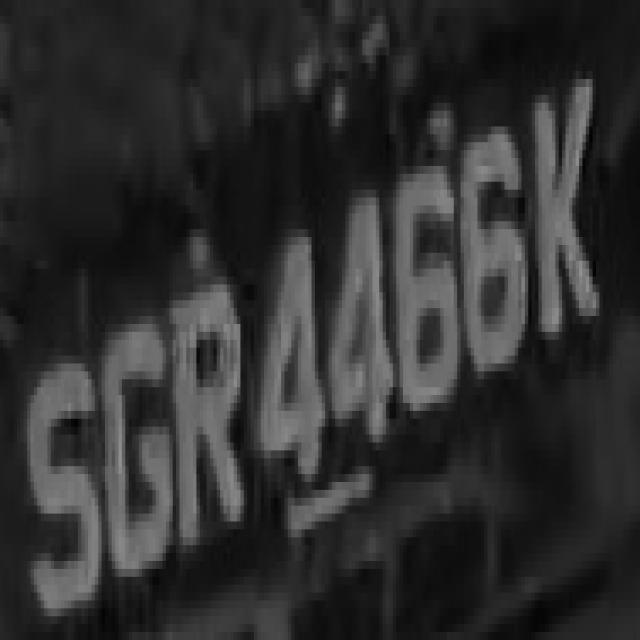4: (240, 206, 328, 530), (315, 158, 393, 482)
6: (392, 150, 470, 435), (457, 111, 532, 387)
G: (91, 276, 173, 616)
K: (518, 71, 606, 371)
R: (162, 261, 244, 561)
S: (20, 332, 102, 632)
